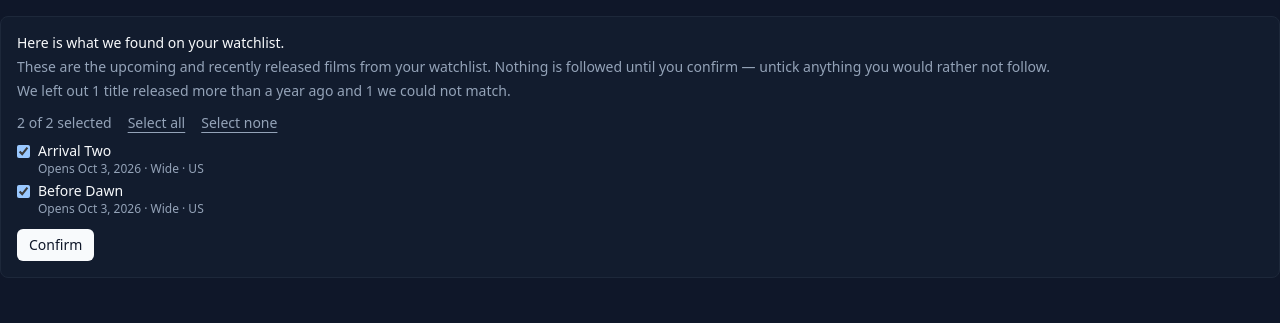
Test: ImportProgress › a job awaiting review (EF-22) › does not print the 404's identifier at the user
The image size is (1280, 323).
Click the button "Confirm": (56, 245) [17,229,94,261]
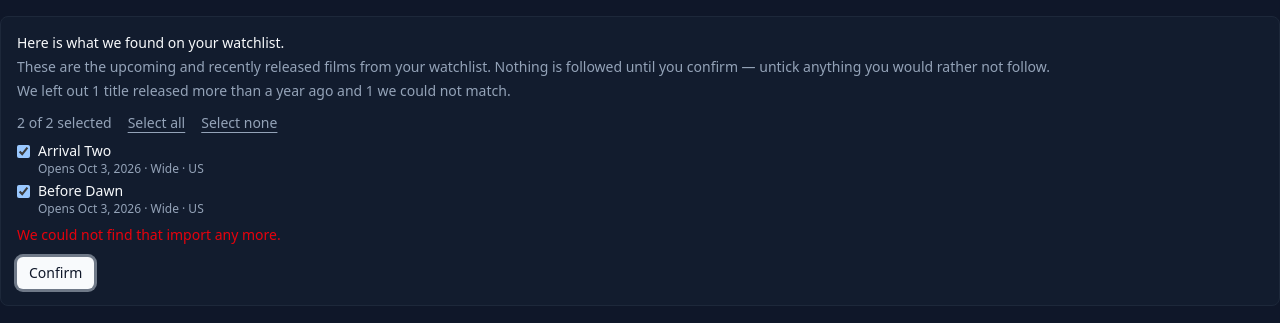
Check: the message does not show "import_job_not_found", box [17,225,281,244]
Check: the message shows "could not find that import", box [17,225,281,244]
